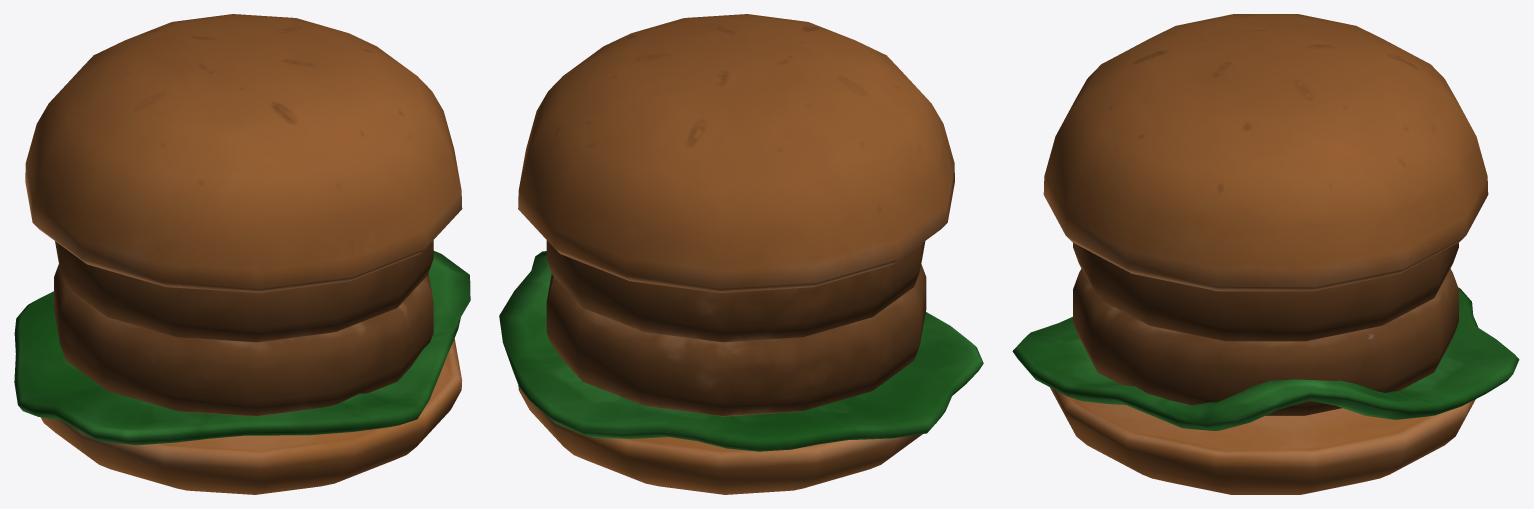
File: MSH_Hamburguesa_P_2C_L.fbx
3 renders of one model, left to right at view 1: azimuth 30°, elevation 25°; view 2: azimuth 150°, elevation 25°; view 3: azimuth 270°, elevation 25°, orthographic.
Parts seen in each view (by area): view 1: MSH_Hamburguesa_P_2C_L; view 2: MSH_Hamburguesa_P_2C_L; view 3: MSH_Hamburguesa_P_2C_L.
Boxes of the visible parts, x1=… form: MSH_Hamburguesa_P_2C_L: x1=14, y1=14, x2=470, y2=494; MSH_Hamburguesa_P_2C_L: x1=499, y1=14, x2=983, y2=494; MSH_Hamburguesa_P_2C_L: x1=1012, y1=14, x2=1519, y2=494.
Size of the model in its own units: 16.25 by 16.87 by 14.11.
Materials: 1 (1 with a texture image).
